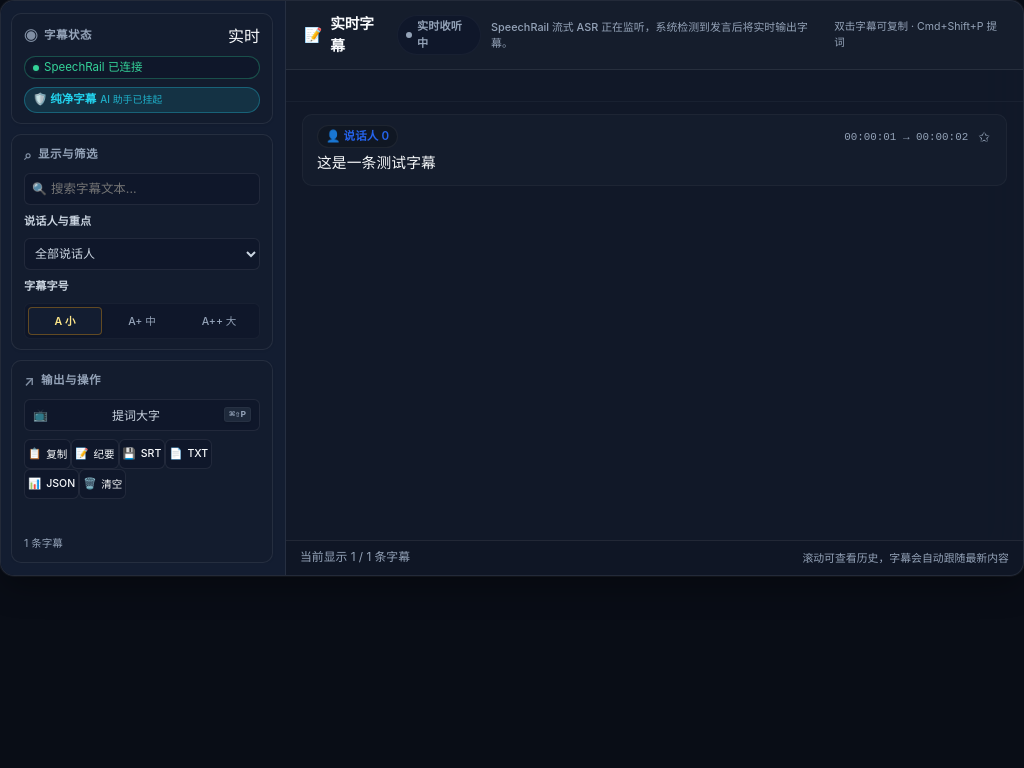
SubtitleStream workspace layout › shows local feedback after copying all subtitles
Step 1. Click the button "📋 复制" → (48, 454), box [24, 439, 71, 469]
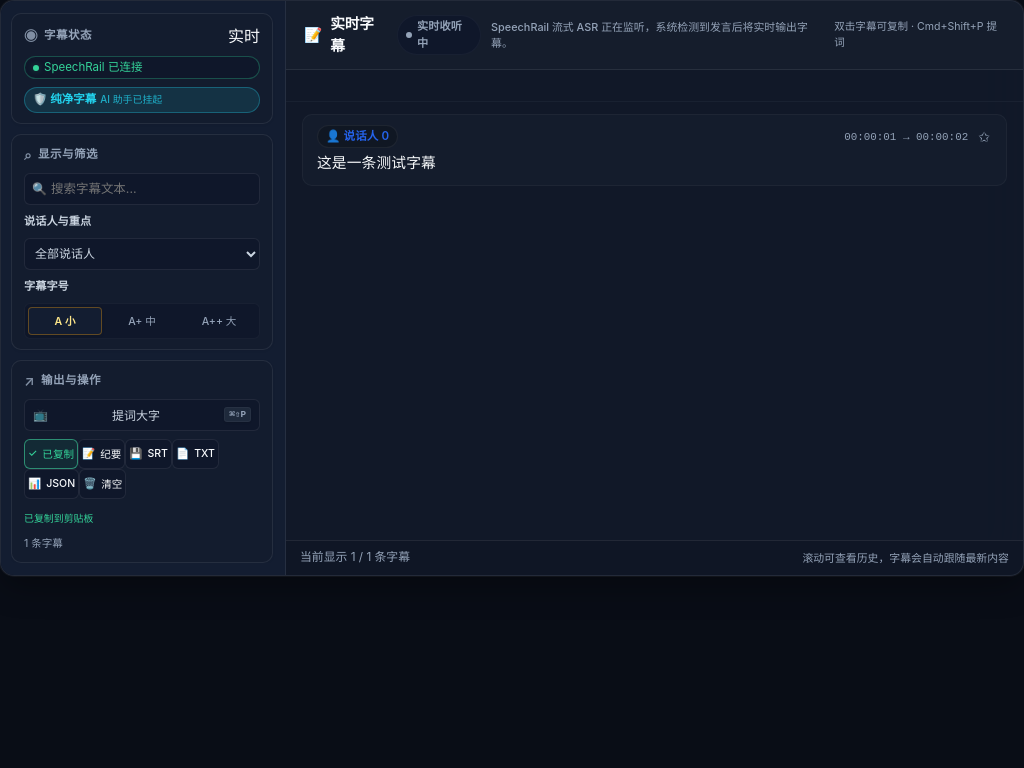
Now the button "✓ 已复制" is shown, box [24, 439, 78, 469]
Now the message "已复制到剪贴板" is shown, box [24, 512, 93, 524]
